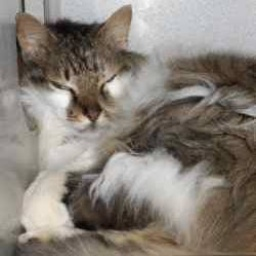cat: (12, 11, 256, 256)
